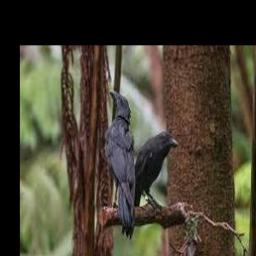Crow: (121, 131, 178, 240), (108, 90, 135, 237)
